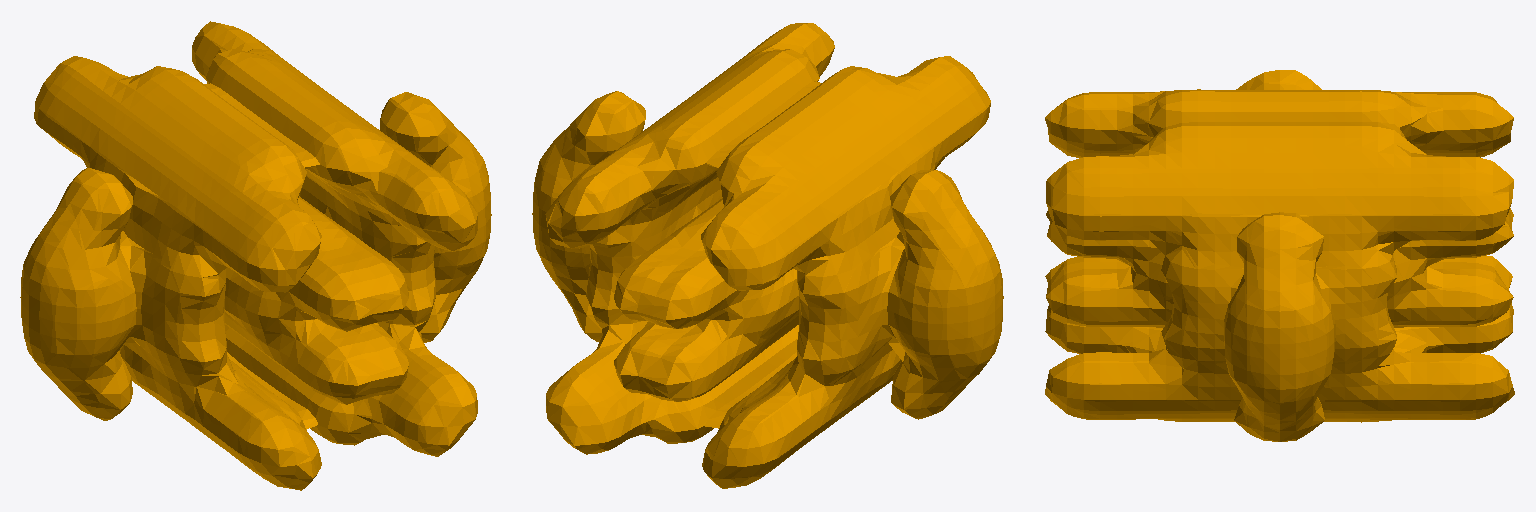
robot.urdf — K20_0:
<?xml version="1.0"?>
<robot name="K20_0">
  <link name="base_link">
    <inertial>
      <mass value="0.09207" />
      <origin xyz="0 0 0" />
      <inertia  ixx="0.0002" ixy="0.0"  ixz="0.0"  iyy="0.0002"  iyz="0.0" izz="0.0002" />
    </inertial>
    <visual>
      <geometry>
        <mesh filename="../../../meshes/egad/train/K20_0.obj" />
      </geometry>
    </visual>
    <collision>
      <geometry>
        <mesh filename="../../../meshes/egad/train/K20_0.obj" />
      </geometry>
    </collision>
  </link>
</robot>

--- What the picture shows (computed from the rendered views, not written in the file) ---
Views: 3 orthographic renders of the robot side by side, from view 1: azimuth 30°, elevation 25°; view 2: azimuth 150°, elevation 25°; view 3: azimuth 270°, elevation 25°.
Robot: K20_0 — 1 links, 0 joints (none); root link base_link; default pose: every joint at zero.
Visible links, largest first — view 1: base_link; view 2: base_link; view 3: base_link.
Boxes of the visible links, <box> form: base_link: <box>20,21,491,490</box>; base_link: <box>532,23,1003,488</box>; base_link: <box>1045,70,1514,441</box>.
Bounding box of the posed robot: 0.0742 × 0.0711 × 0.0491 m (x, y, z).
1 mesh visuals loaded from 1 distinct referenced files (1 OBJ).